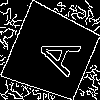A: (26, 28, 82, 77)
